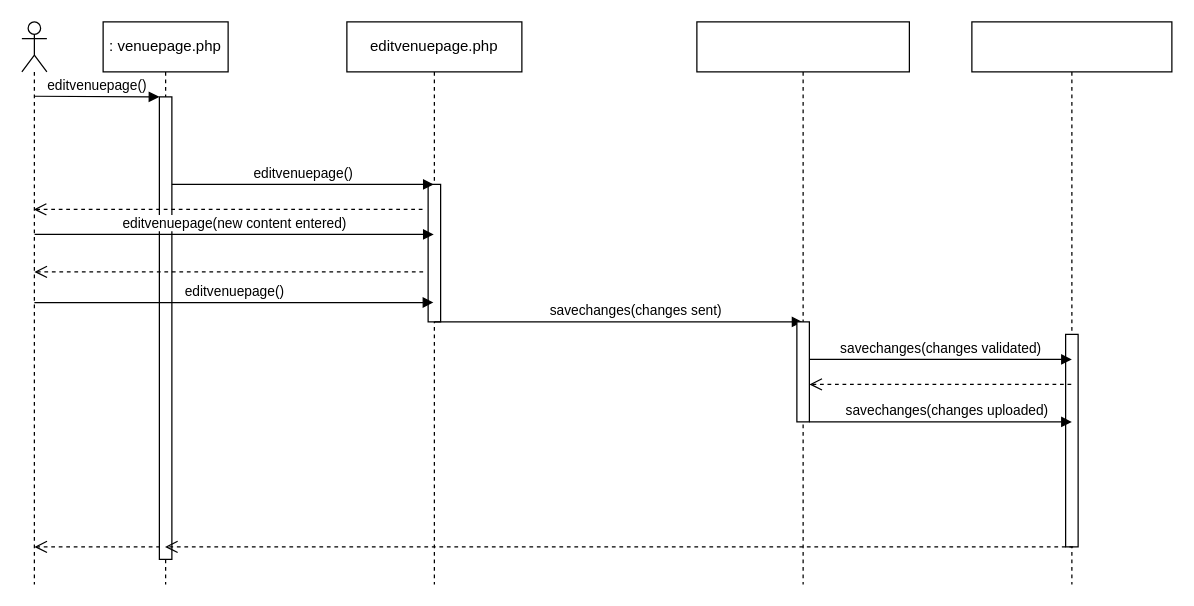
Image size: 1194x606. Some labels were removed from this diagram. Each missing label, with the centre of its shape:
":database" goes at pixel 1071 302.
":venuepagesavechanges.php" goes at pixel 802 302.
